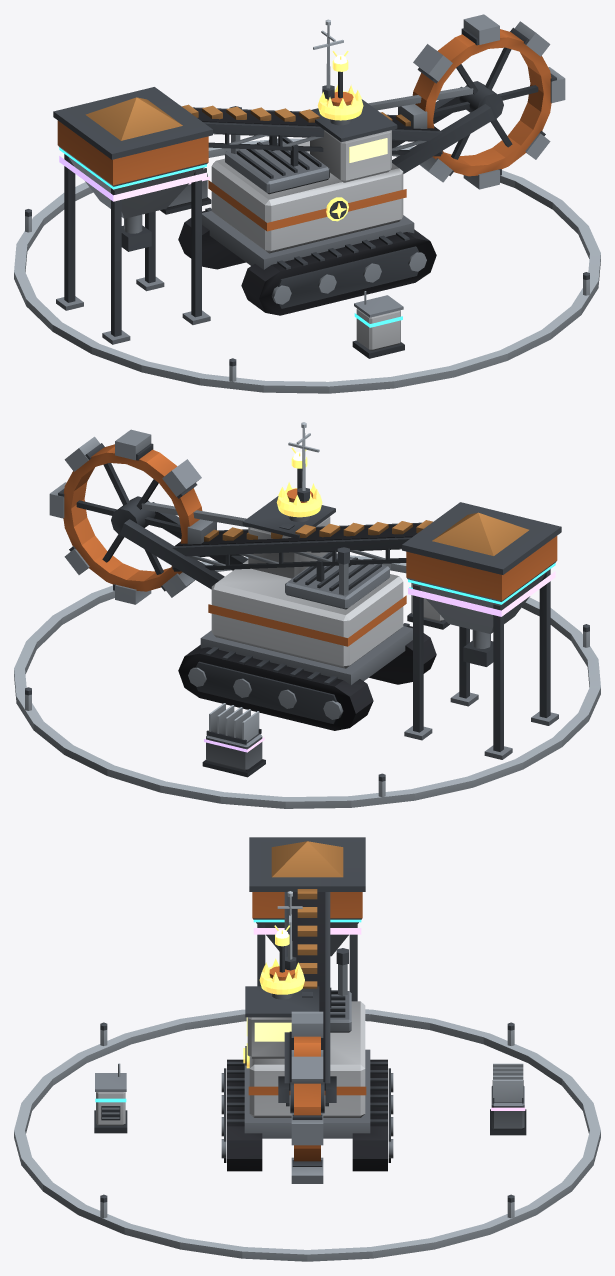
The model's file is regolith_harvester_l.glb.
3 renders of one model, top to bottom at view 1: azimuth 30°, elevation 25°; view 2: azimuth 150°, elevation 25°; view 3: azimuth 270°, elevation 25°, orthographic.
Visible parts, largest first — view 1: Base, L2, L3, L5, L4; view 2: Base, L2, L4, L5, L3; view 3: Base, L2, L4, L3, L5.
Part boxes in pixels (x1,y1,x2,y2): Base: (53, 14, 565, 344); L2: (14, 19, 600, 393); L3: (59, 147, 404, 358); L5: (317, 50, 363, 221); L4: (59, 156, 211, 214); Base: (49, 429, 561, 759); L2: (14, 422, 600, 808); L4: (202, 571, 555, 777); L5: (276, 447, 322, 517); L3: (407, 563, 555, 629); Base: (221, 837, 393, 1183); L2: (14, 891, 600, 1261); L4: (253, 928, 526, 1135); L3: (94, 919, 361, 1133); L5: (243, 925, 304, 1068).
Bounding box in the file's own units: 7.46 × 3.55 × 7.46.
